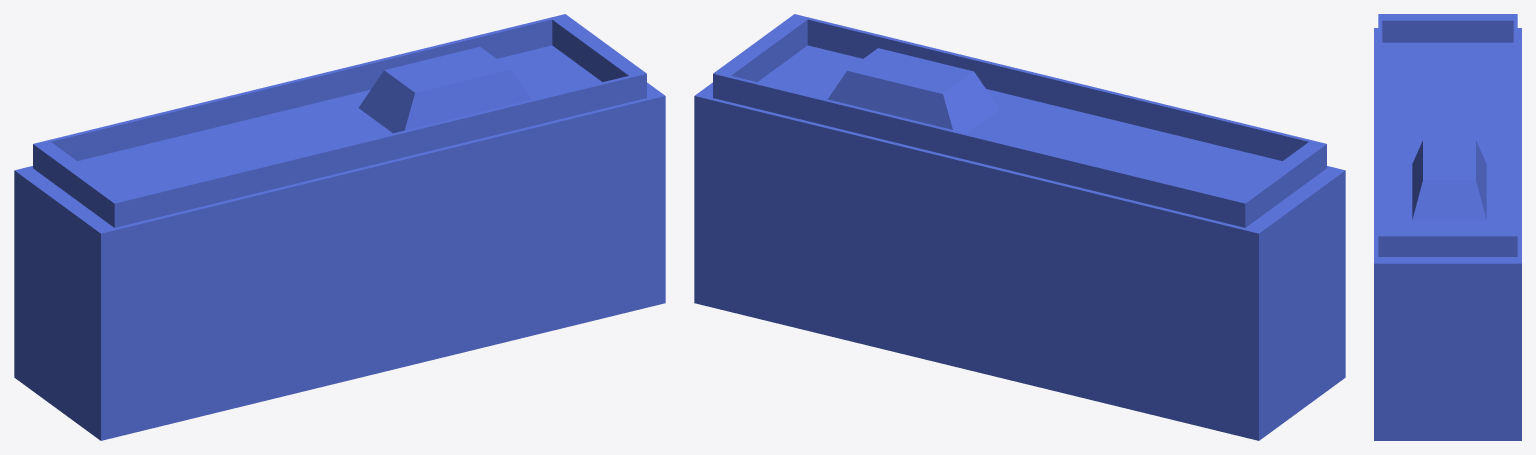
The model's file is level1.3.fbx.
3 renders of one model, left to right at view 1: azimuth 30°, elevation 25°; view 2: azimuth 150°, elevation 25°; view 3: azimuth 270°, elevation 25°, orthographic. The views are drawn at different scales.
Visible parts, largest first — view 1: Cube.003; view 2: Cube.003; view 3: Cube.003.
Part boxes in pixels (x1,y1,x2,y2): Cube.003: (14,14,665,440); Cube.003: (694,14,1345,440); Cube.003: (1374,14,1521,440).
Bounding box in the file's own units: 296 × 123 × 78.6.
